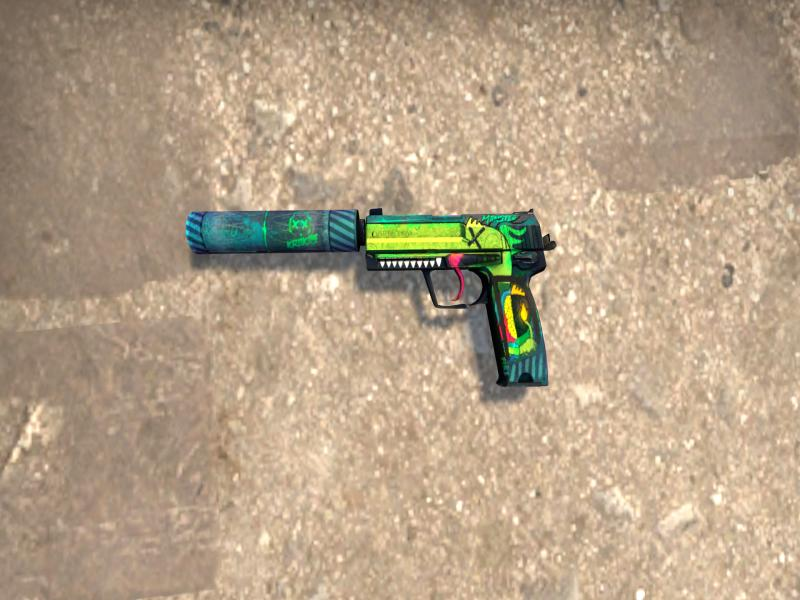USP: (185, 207, 557, 386)
